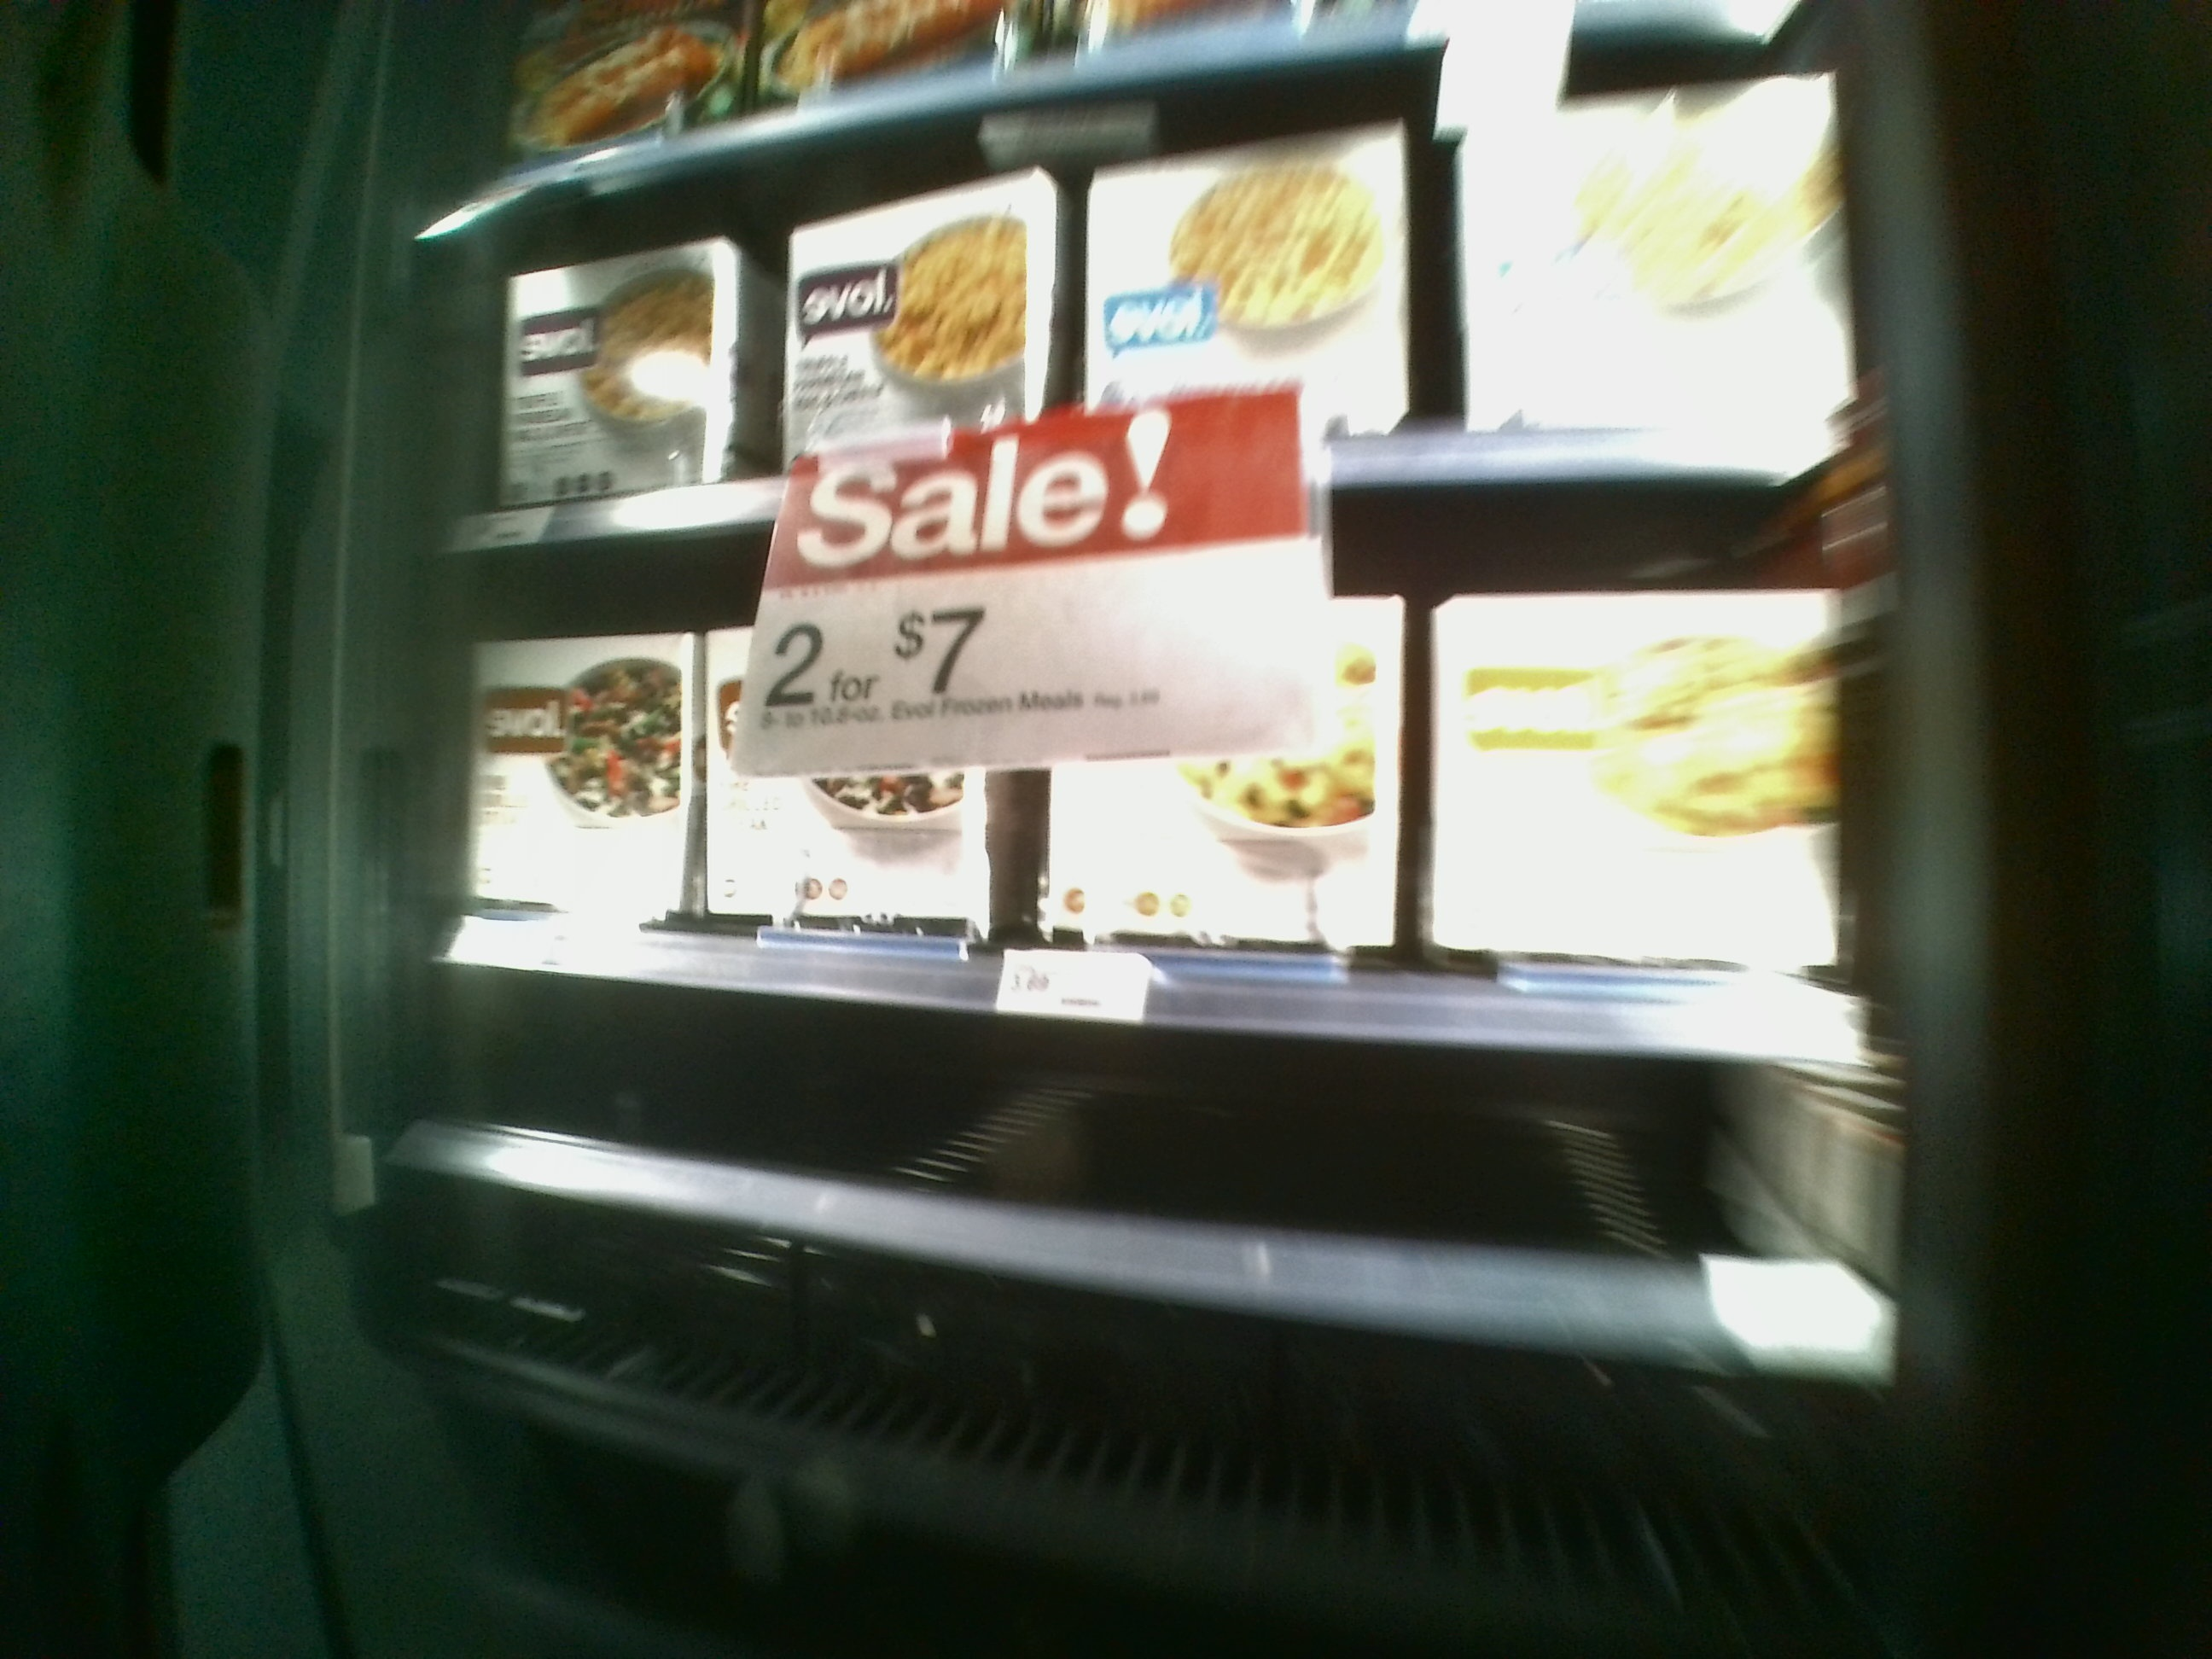shelf: (451, 504, 1867, 999), (446, 1032, 1892, 1439)
